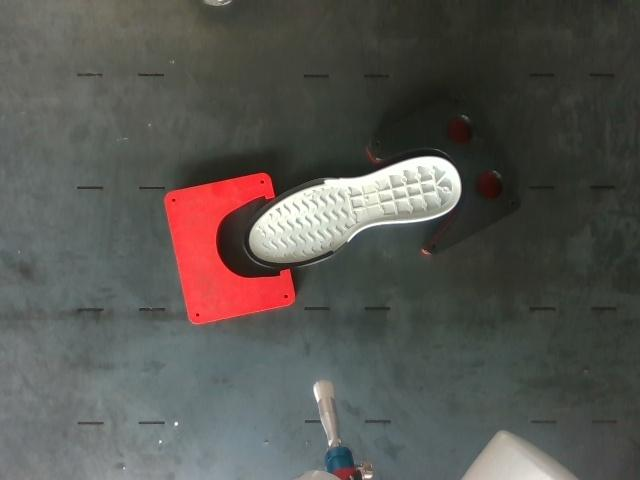shoes: (243, 157, 460, 268)
